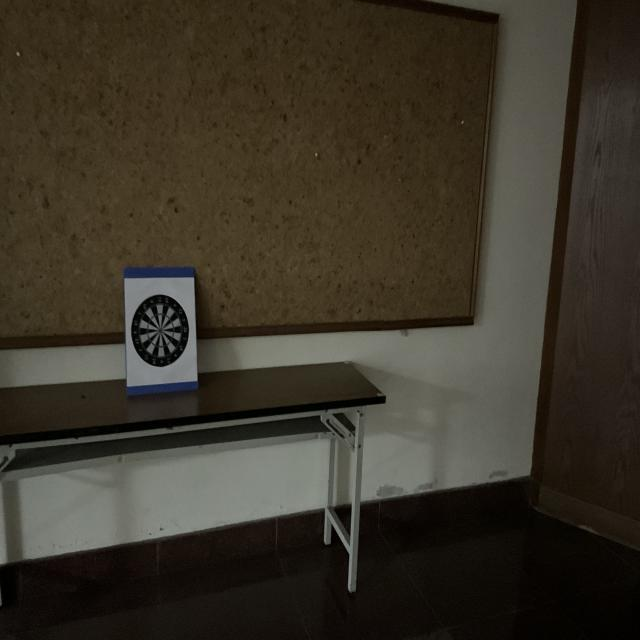archery-targets: (126, 288, 199, 366)
